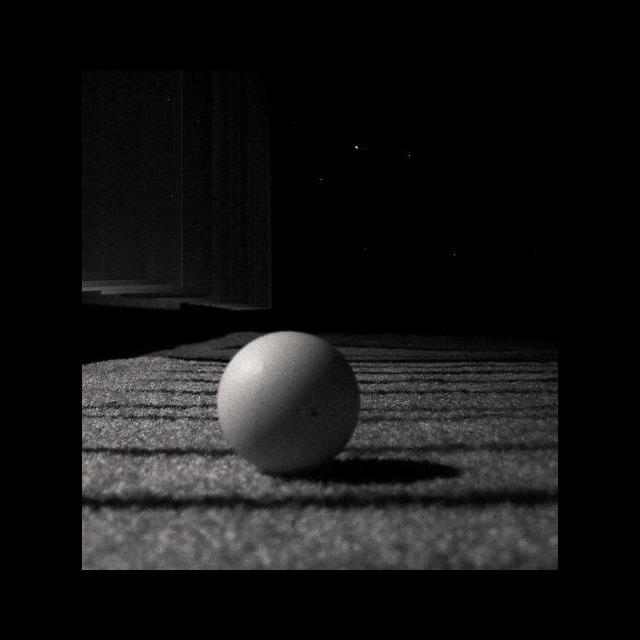ping-pong-ball: (217, 329, 365, 476)
